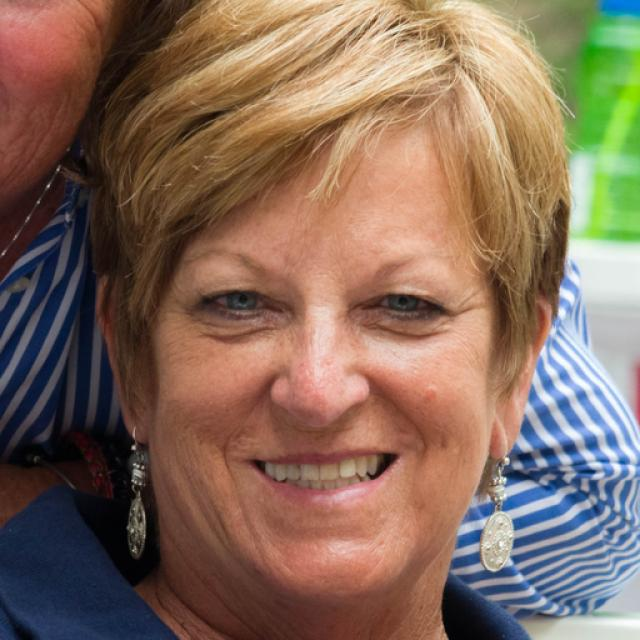Acne: (419, 378, 450, 404)
Wrinkle: (211, 436, 278, 570), (356, 365, 441, 460), (216, 364, 286, 458)
